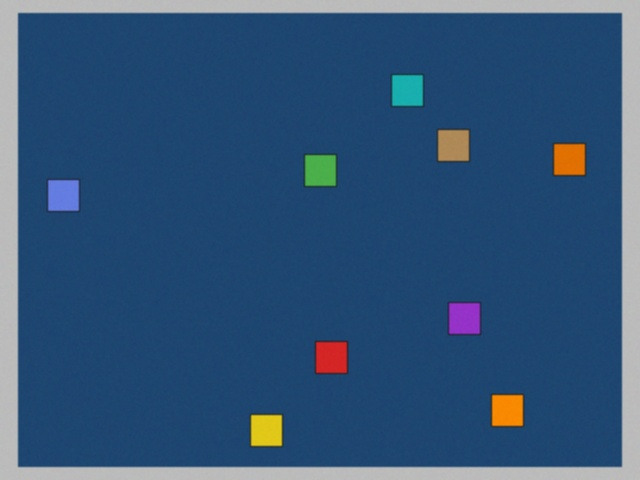block: (483, 386, 524, 426), (541, 143, 586, 179), (47, 180, 92, 213), (251, 405, 285, 447), (431, 129, 470, 165), (441, 299, 480, 334), (388, 75, 423, 114), (316, 336, 348, 373), (305, 154, 337, 189)
